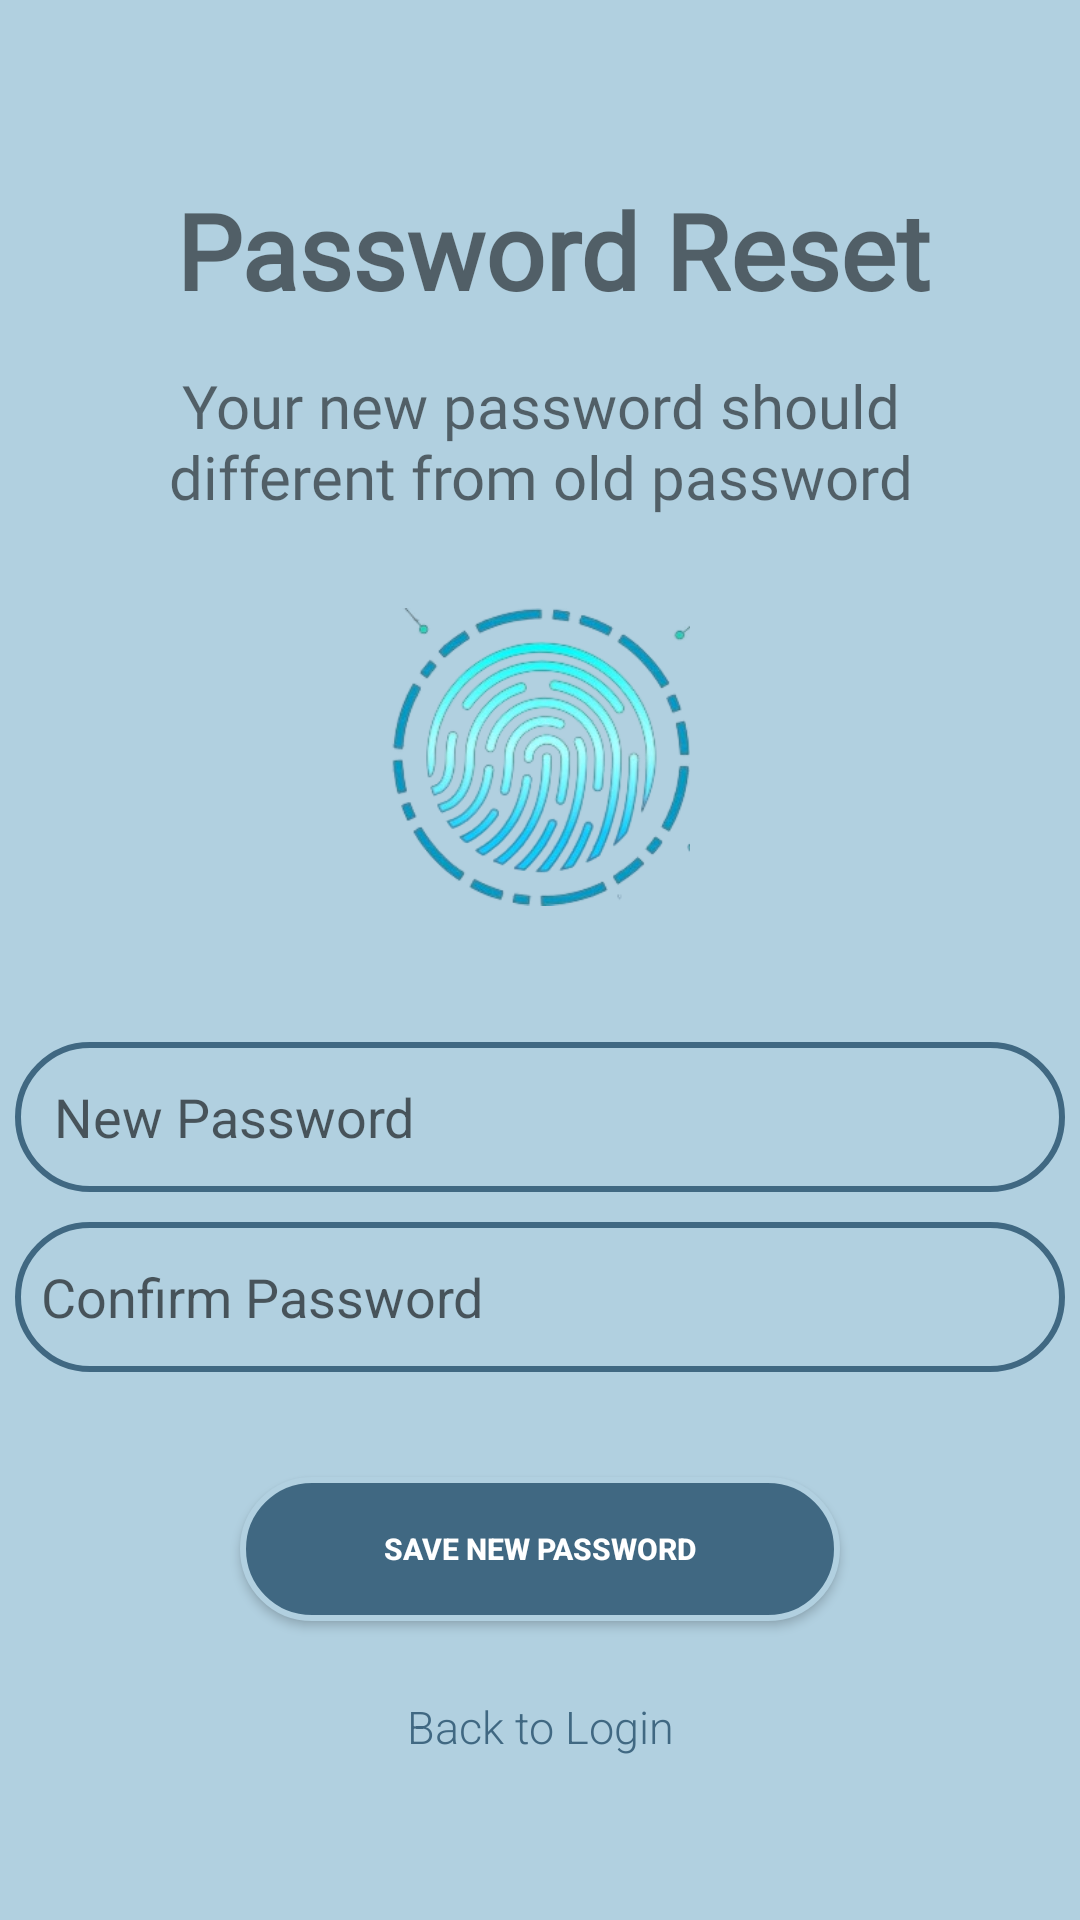

Icons on this 1080 × 1920 Android screen, each with its box as (x1, y1, x2, y2):
fingerprint: (392, 608, 690, 906)
